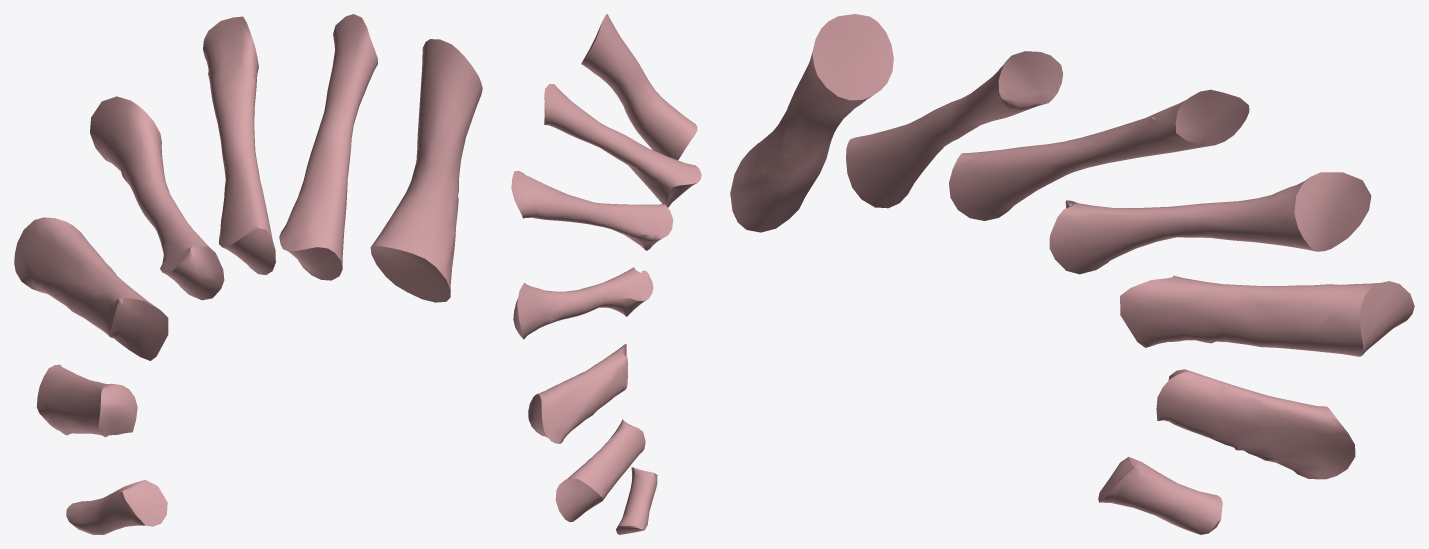
Rendered from fma77813-r_mm2866m.glb.
3 renders of one model, left to right at view 1: azimuth 30°, elevation 25°; view 2: azimuth 150°, elevation 25°; view 3: azimuth 270°, elevation 25°, orthographic. The views are drawn at different scales.
Visible parts, largest first — view 1: FMA77813-R_MM2866M; view 2: FMA77813-R_MM2866M; view 3: FMA77813-R_MM2866M.
Part boxes in pixels (x1,y1,x2,y2): FMA77813-R_MM2866M: [14, 14, 482, 534]; FMA77813-R_MM2866M: [511, 14, 701, 534]; FMA77813-R_MM2866M: [730, 14, 1414, 534].
Size of the model in its own units: 0.014 by 0.0307 by 0.0307.
